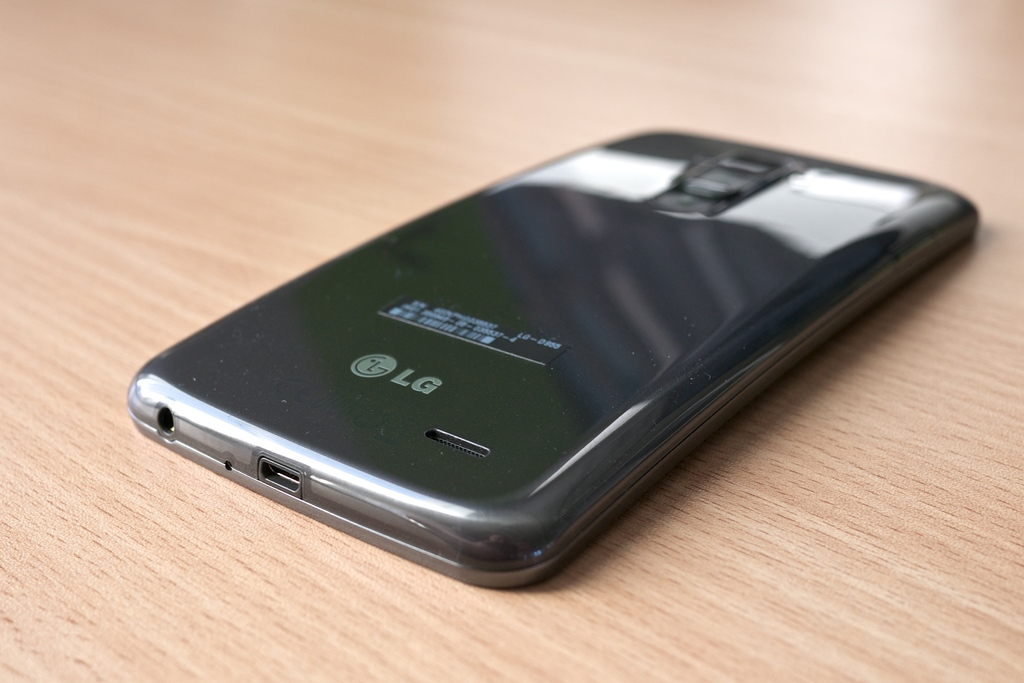Mobile-phone: (132, 120, 981, 594)
